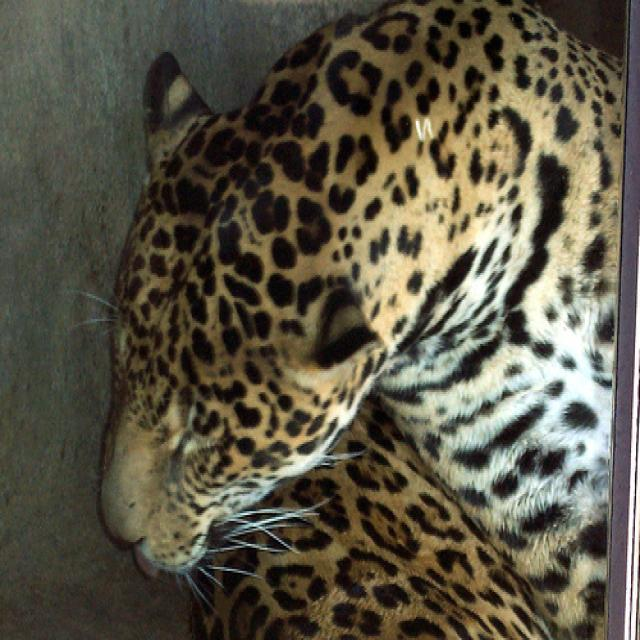Leopard: (95, 0, 624, 636)
